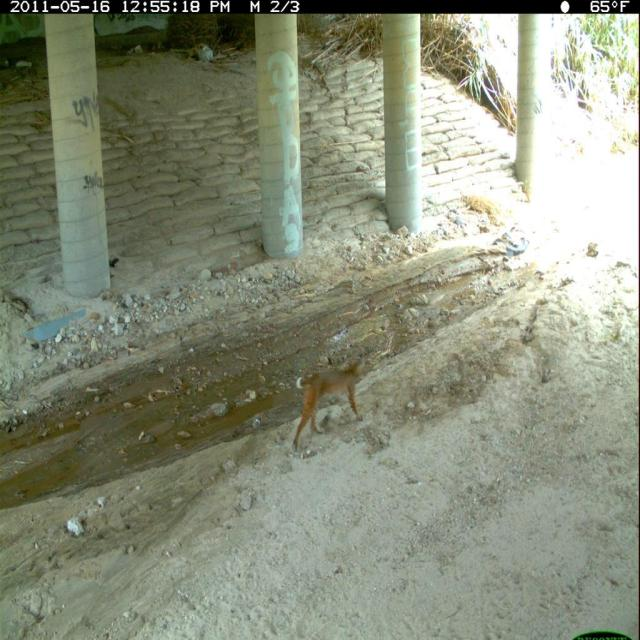bobcat: (290, 356, 370, 454)
